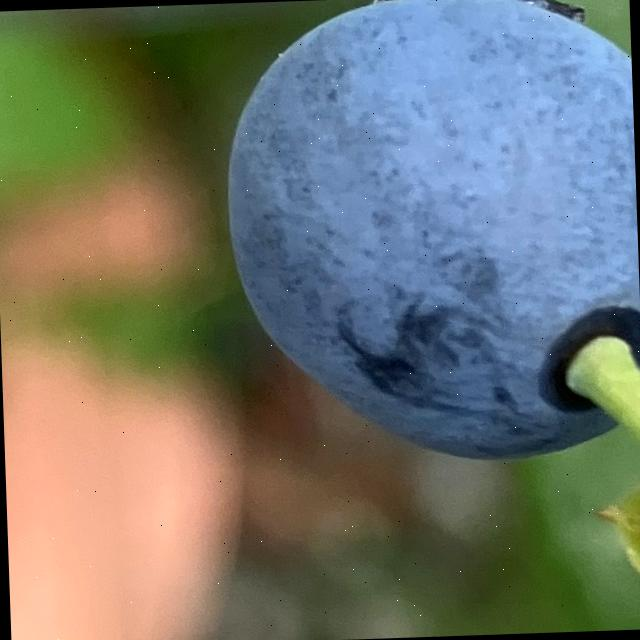Blueberries: (213, 0, 640, 471)
